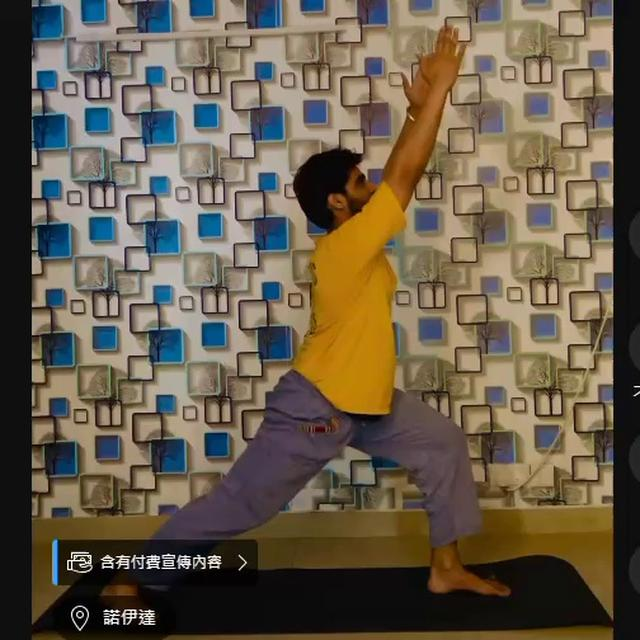Warrior_I: (72, 18, 518, 606)
